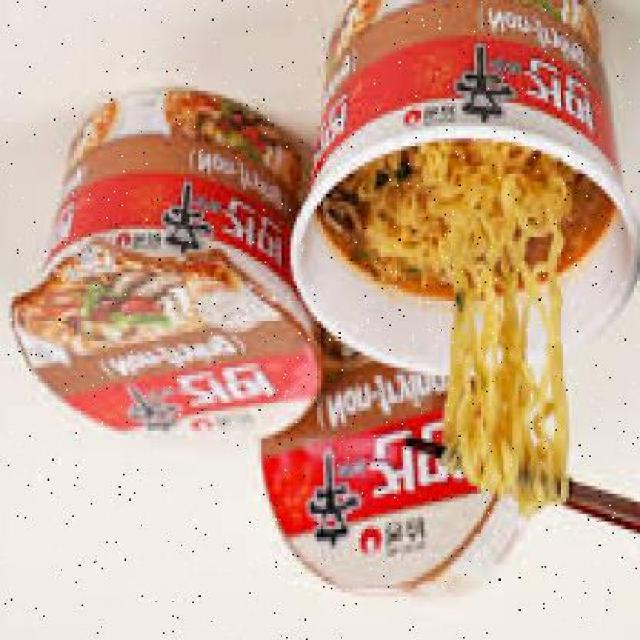Miscellaneous: (292, 0, 639, 355), (35, 88, 316, 447)
